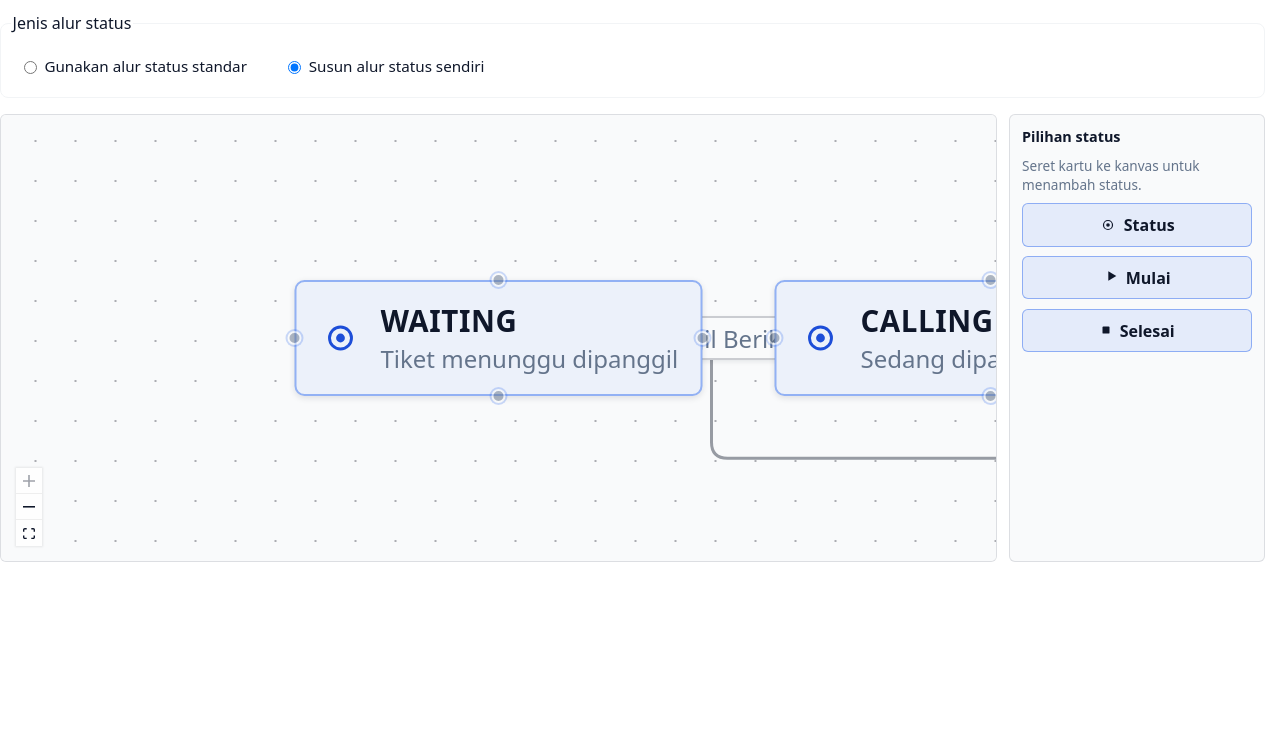
Test case: StateMachineWorkflow (visual React Flow builder) › cascades transition removal when a state node is deleted from the panel
Click the element showing "CALLING Sedang dipanggil ke counter" at (991, 338), box [774, 280, 1208, 397]
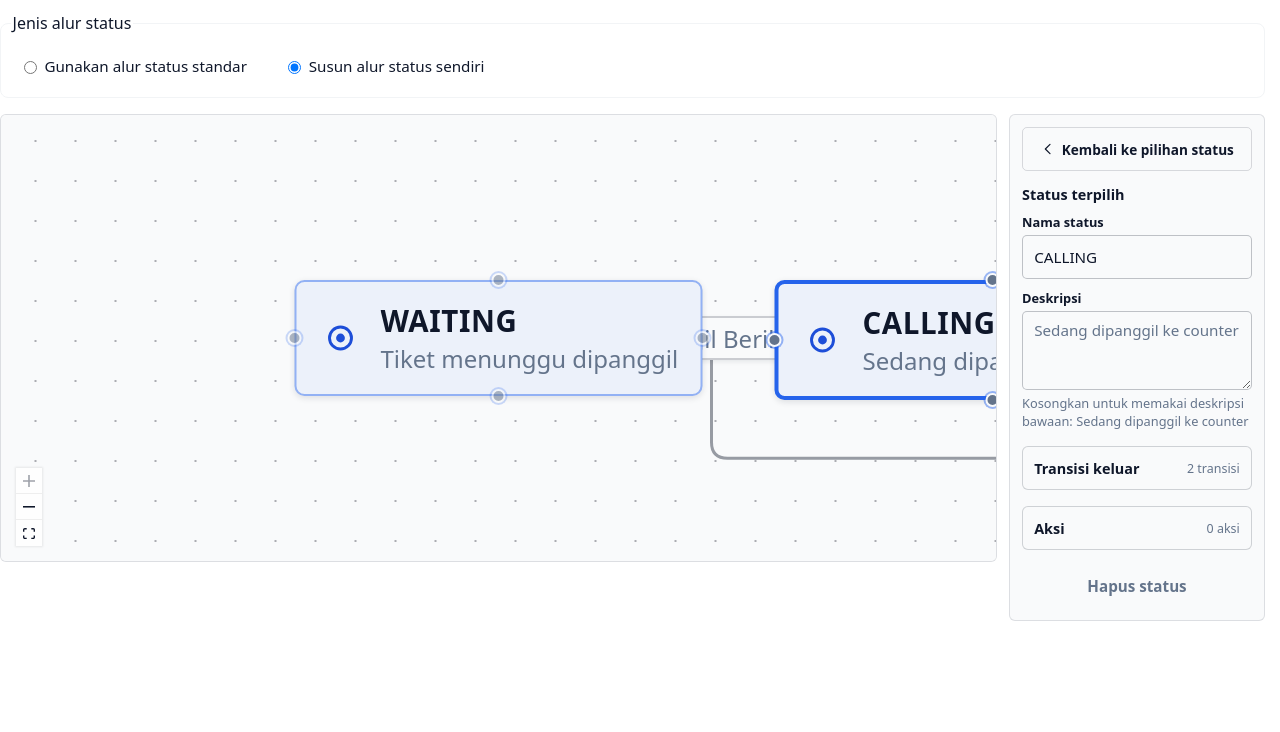
Click the button with test id "panel-delete-state" at (1137, 586), box [1022, 564, 1252, 608]
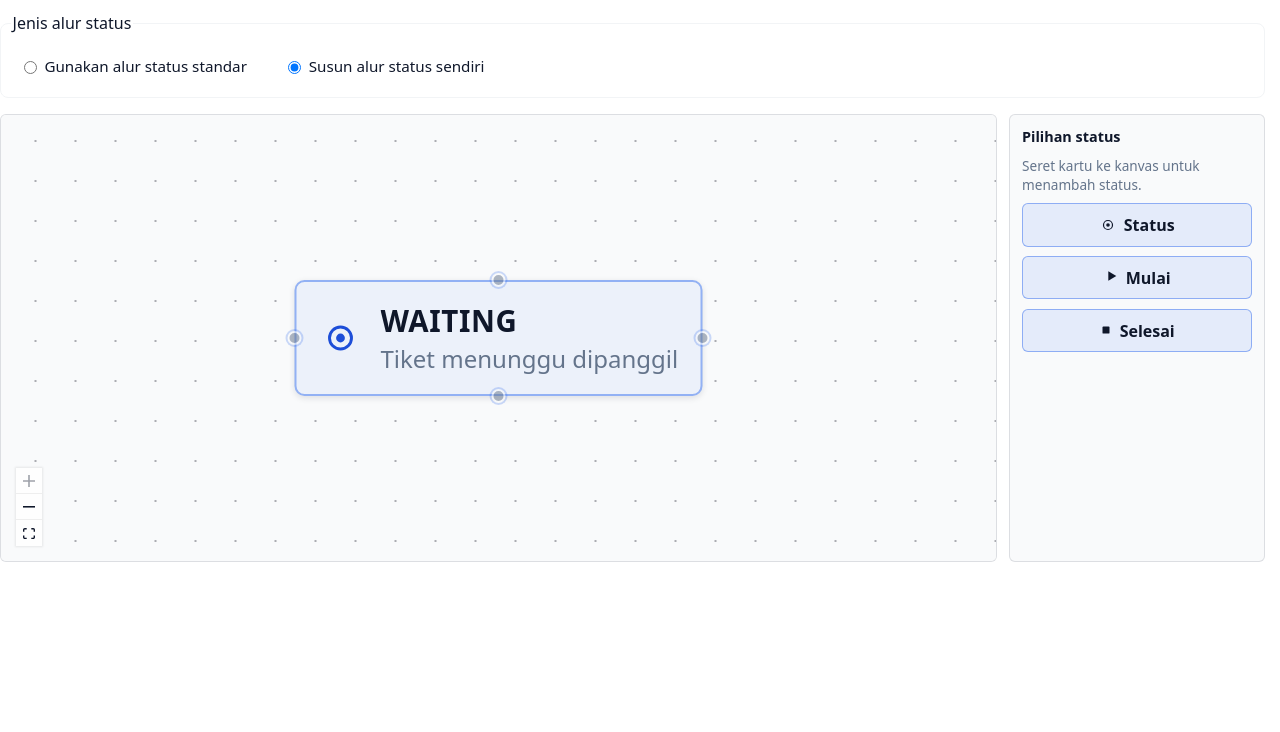
Now the text "CALLING" is gone
